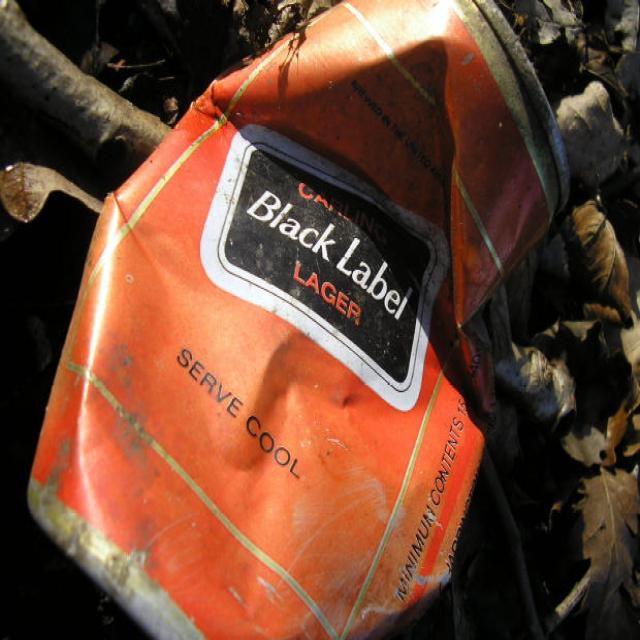metal: (37, 25, 617, 601)
